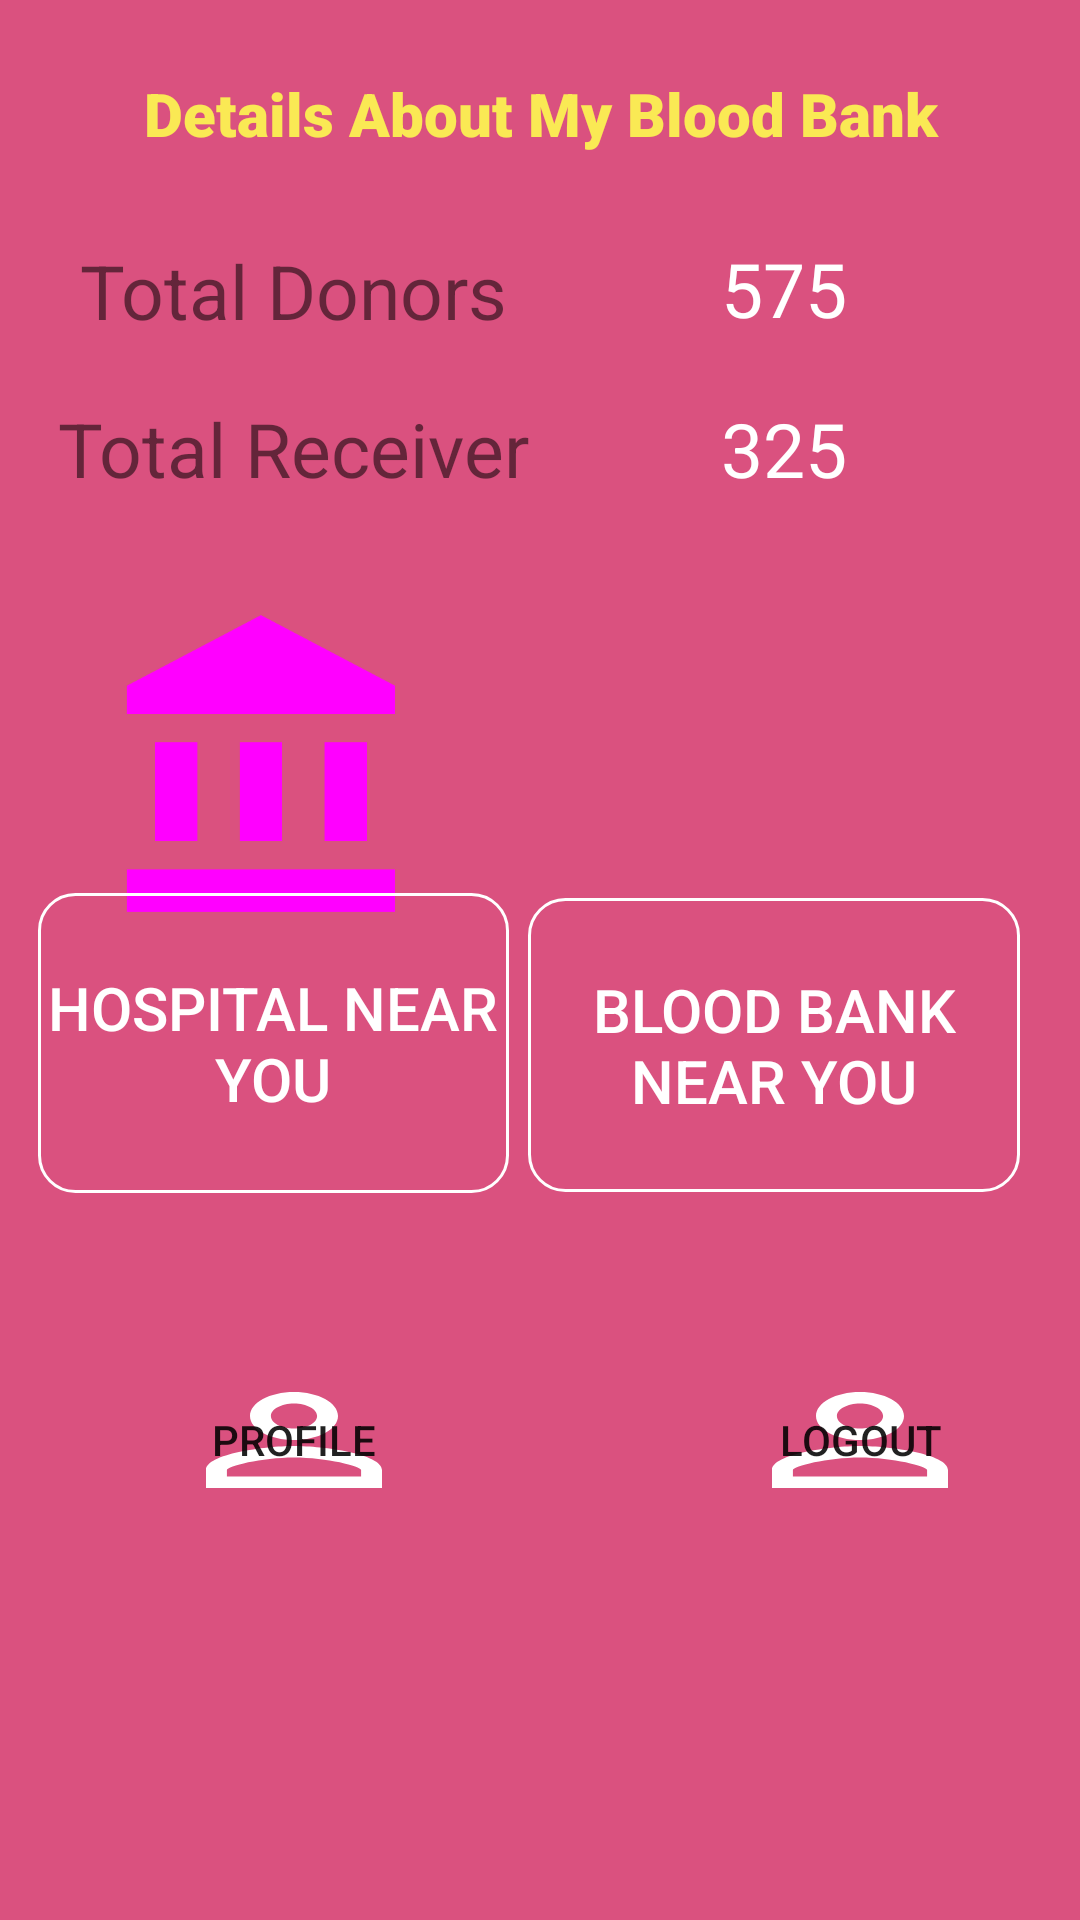

Point at icon controls on the screen. Image size 1080w x 1920h, points as [x,y].
account balance: [261,728]
